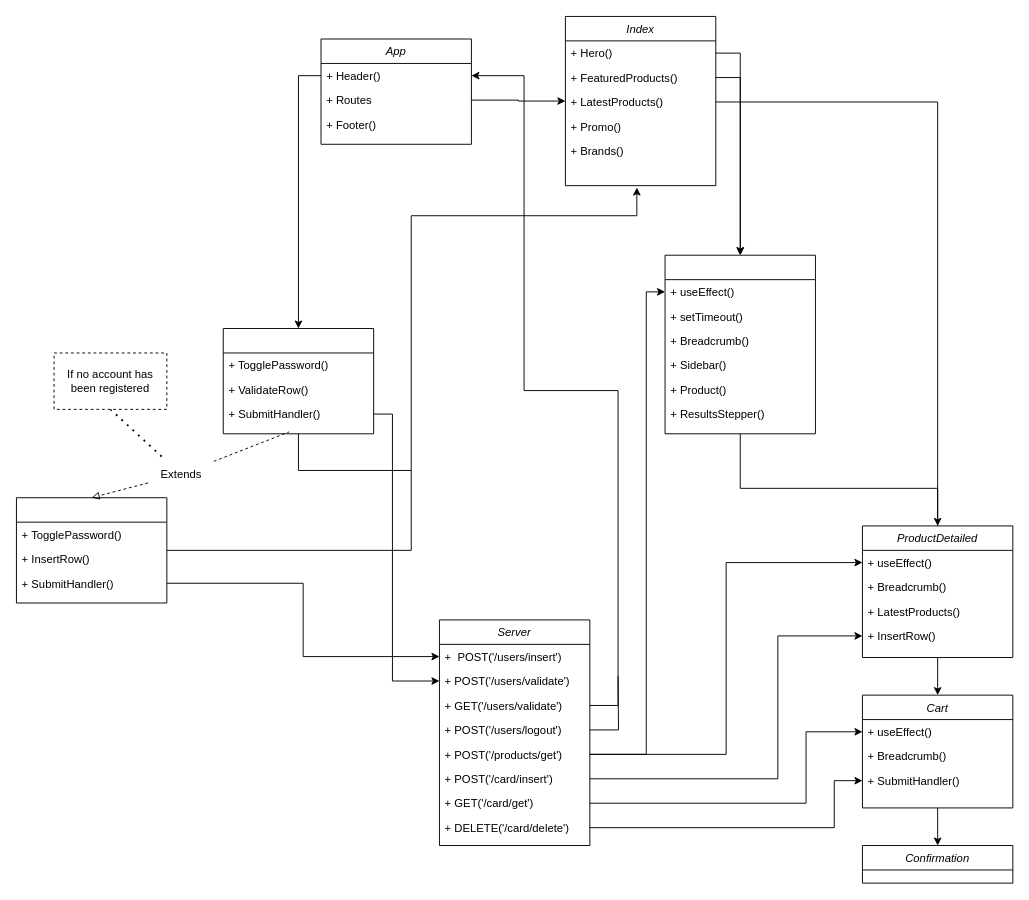
The diagram is 1029 pixels wide and 900 high, and some of its shapes have lost their labels. Each missing label, with the box of its shape:
Login: (222, 328, 374, 434)
Products: (664, 254, 815, 434)
Register: (16, 497, 167, 603)
